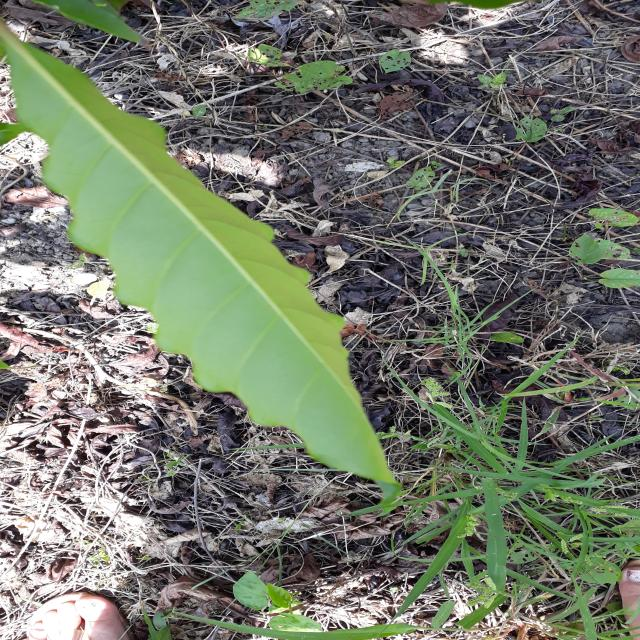Sanas: (0, 35, 404, 514)
